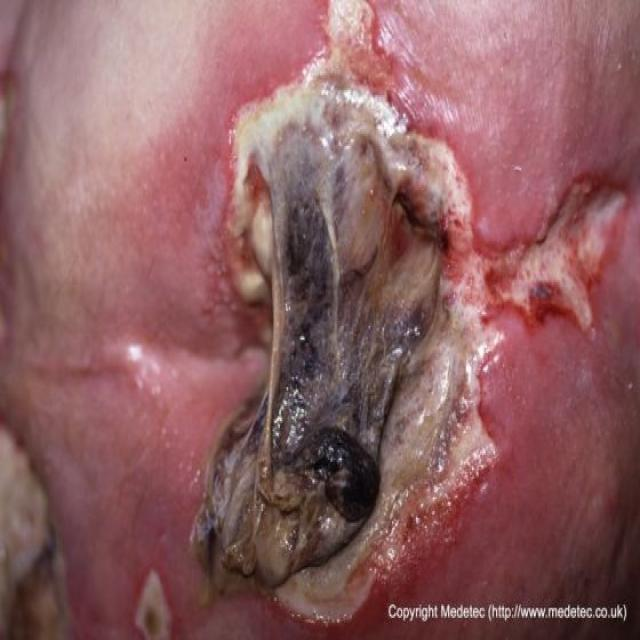Unstageable: (194, 11, 608, 619)
